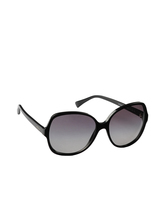glasses: (13, 92, 154, 155)
